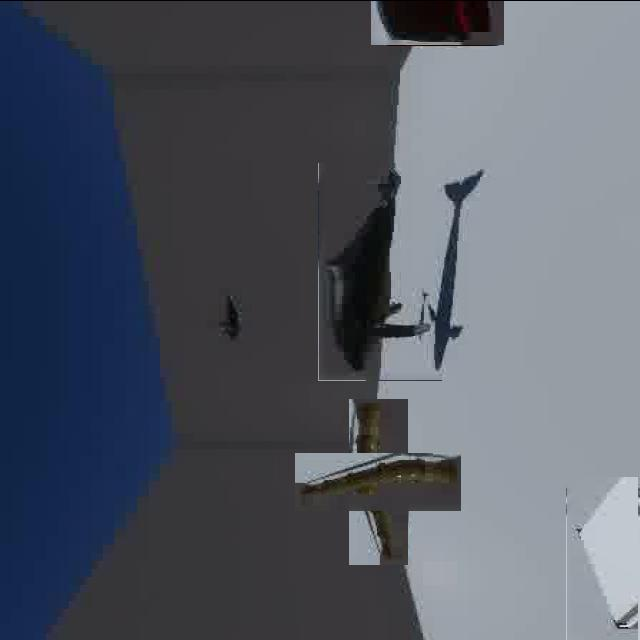Cylinder: (370, 0, 504, 45)
Docking Station: (566, 476, 638, 640)
Pipe: (322, 425, 435, 537)
Whale: (318, 162, 442, 380), (206, 282, 252, 352)
